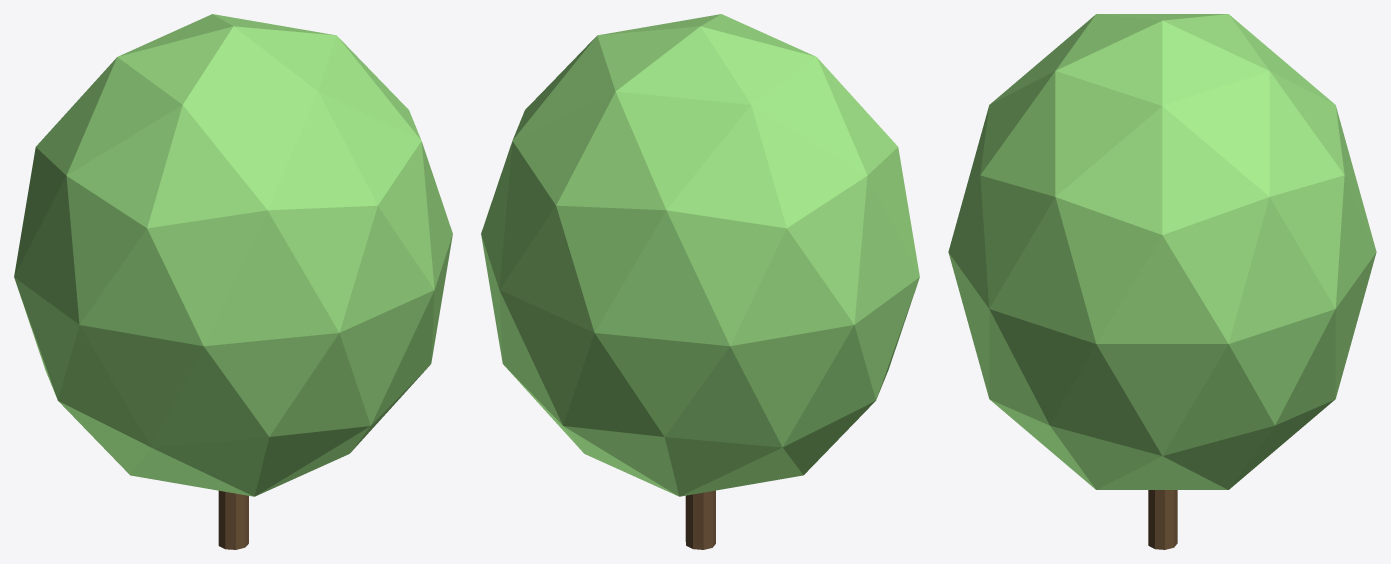
The model's file is bush 2.fbx.
The picture shows the model from 3 angles, left to right: view 1: azimuth 30°, elevation 25°; view 2: azimuth 150°, elevation 25°; view 3: azimuth 270°, elevation 25°; orthographic projection.
Parts seen in each view (by area): view 1: Busg 2; view 2: Busg 2; view 3: Busg 2.
Part boxes in pixels (<box>): Busg 2: <box>14,14,452,549</box>; Busg 2: <box>481,14,919,549</box>; Busg 2: <box>948,14,1376,549</box>.
Bounding box in the file's own units: 253 × 335 × 248.
